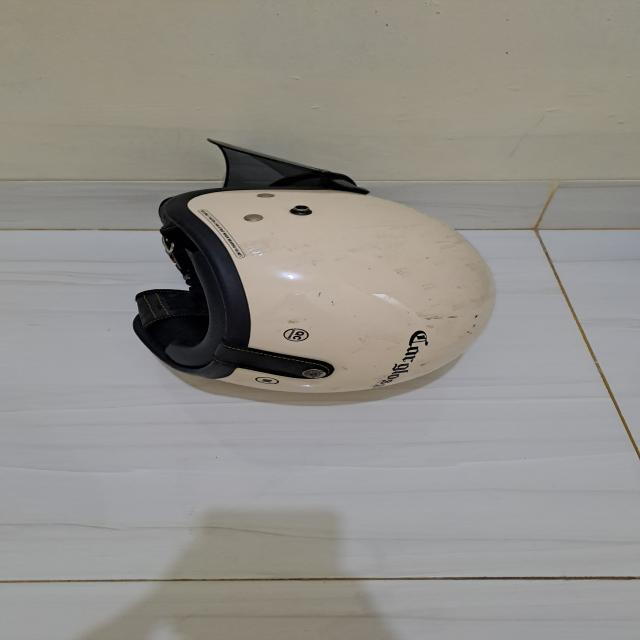Helm: (124, 120, 502, 402)
